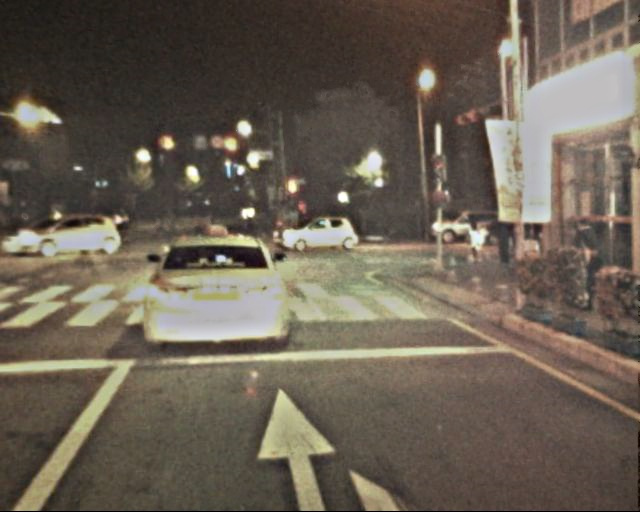person: (572, 214, 602, 303), (496, 214, 518, 272), (462, 219, 483, 269), (16, 203, 39, 239), (190, 209, 204, 243), (240, 210, 254, 243), (151, 210, 164, 242), (164, 208, 177, 240)
